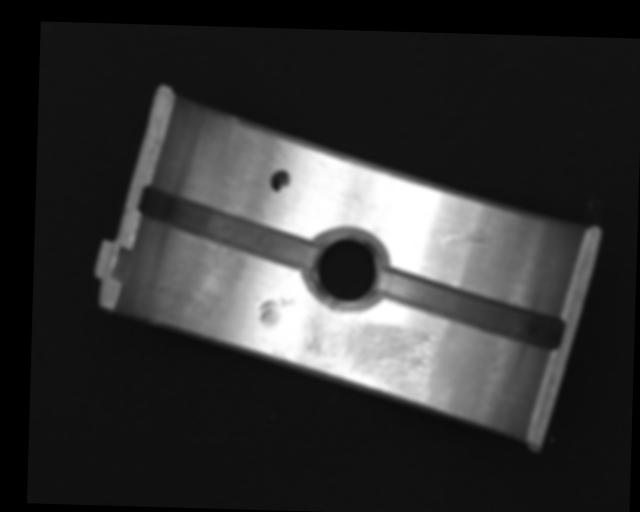blot: (269, 169, 291, 192)
bruise: (258, 296, 296, 329), (271, 348, 288, 362)
gap: (138, 183, 316, 271), (378, 269, 562, 350)
hole: (305, 225, 389, 313)
nick: (428, 227, 492, 247)
scratch: (296, 311, 439, 392)
